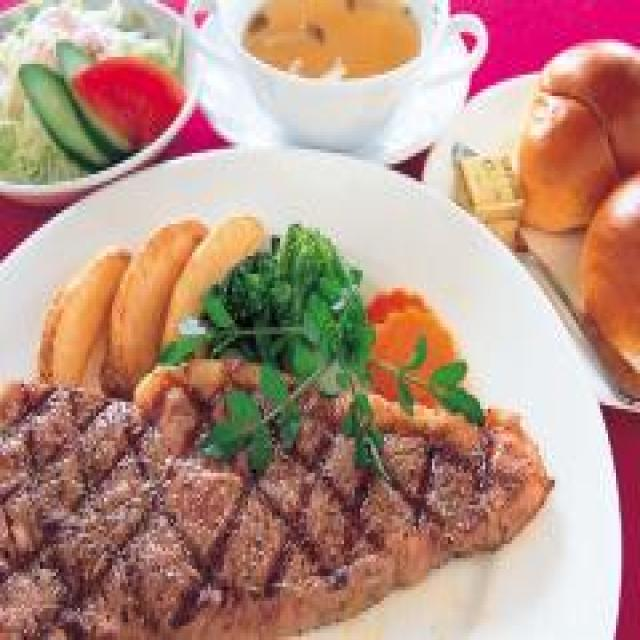牛肉菜式: (0, 355, 560, 640)
